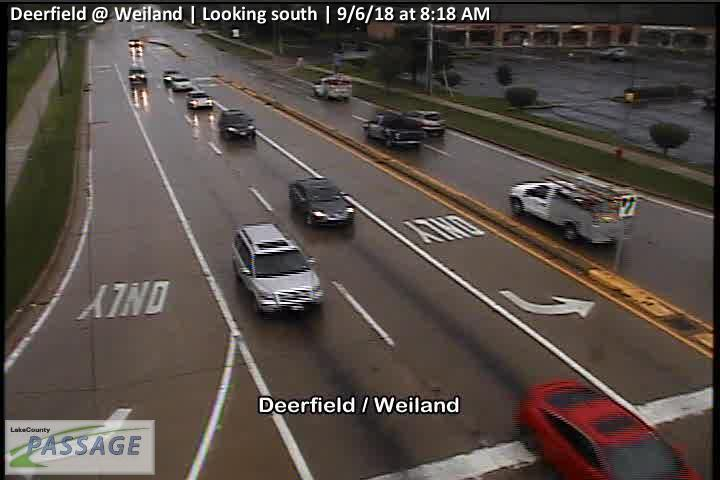SUV: (232, 222, 324, 313), (361, 112, 426, 150), (221, 109, 257, 141), (403, 110, 447, 136), (311, 75, 352, 101)
Sedan: (511, 376, 704, 480), (185, 90, 214, 107), (168, 74, 191, 90), (162, 69, 180, 86), (129, 68, 147, 84), (127, 38, 143, 48)
Truck: (508, 170, 643, 245), (288, 178, 355, 228)
